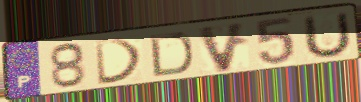5: (252, 15, 298, 68)
8: (47, 42, 88, 92)
D: (92, 37, 146, 87), (147, 31, 196, 79)
U: (302, 10, 354, 62)
V: (194, 20, 249, 75)
